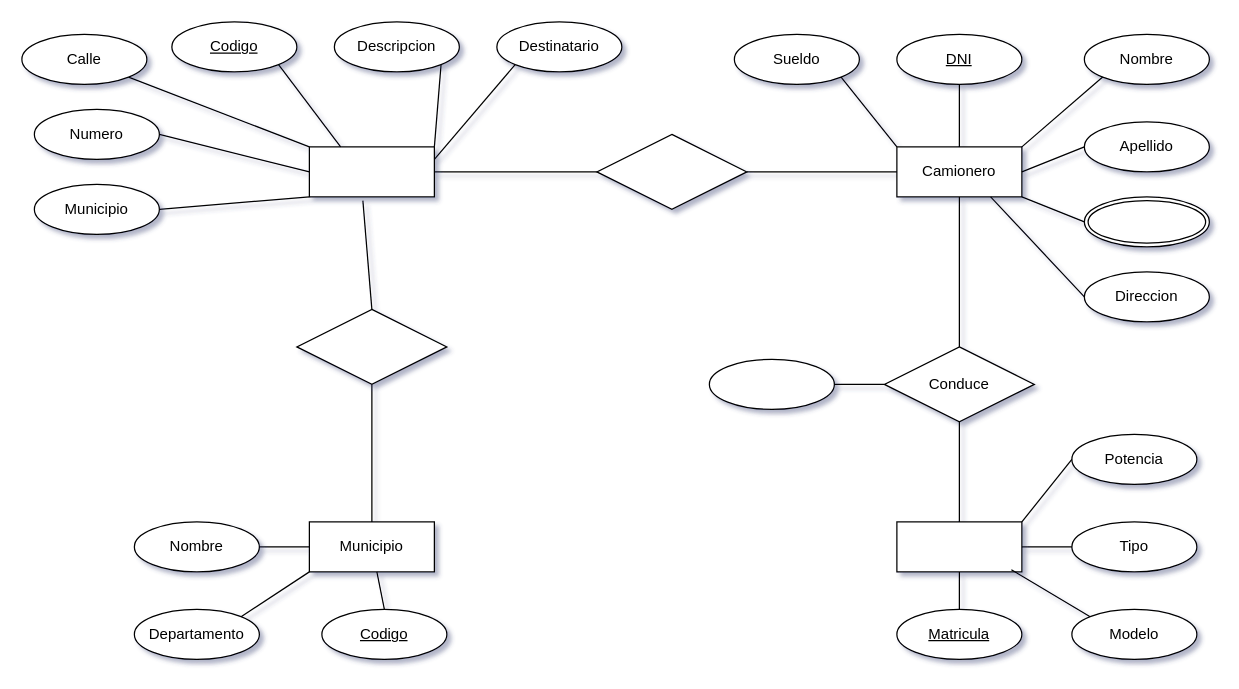
Image size: 1239x689. Some labels were removed from this diagram. The shapes that lost their labels are listed below. From the top down, each one's box as (x1, y1, x2, y2) in pixels, then its label:
(308, 146, 434, 197): Paquete
(596, 133, 747, 209): Distribuye
(1083, 196, 1209, 247): Telefono
(296, 308, 447, 384): Llega
(708, 358, 834, 409): Fecha
(896, 521, 1022, 572): Camion
